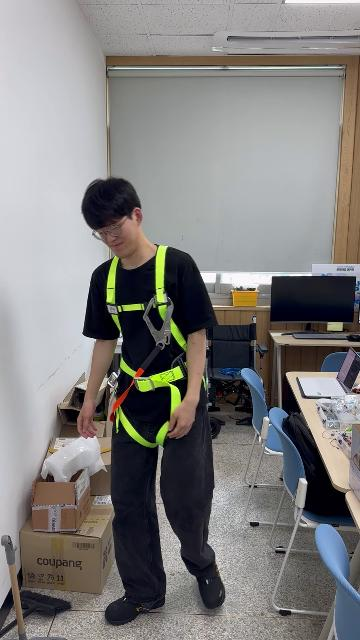helmet_not_worn: (81, 177, 143, 232)
shoe_worn: (105, 593, 165, 625), (196, 563, 225, 609)
vest_worn: (103, 254, 206, 445)
